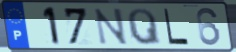1: (41, 6, 62, 47)
6: (195, 7, 222, 48)
7: (64, 7, 90, 46)
L: (162, 8, 191, 47)
N: (93, 7, 130, 46)
Q: (126, 7, 163, 46)
